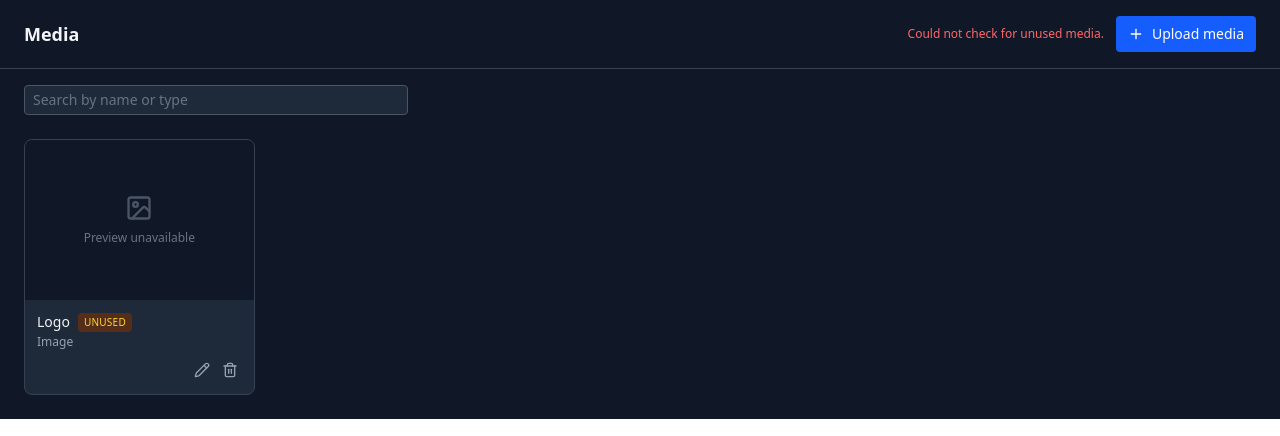
Test: MediaSection › deletes a referenced resource when the user overrides the in-use warning (P2)
Check: the text "Logo" is shown, box [37,312,70,332]
Step 1. Click the button named "Delete" → (230, 370), box [218,358,242,382]
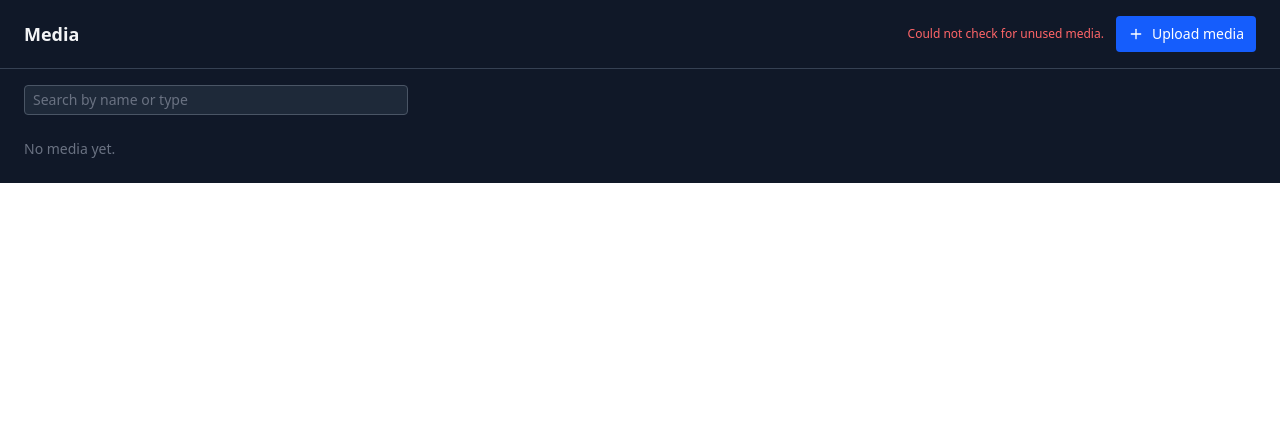
Check: the text "Logo" is gone
